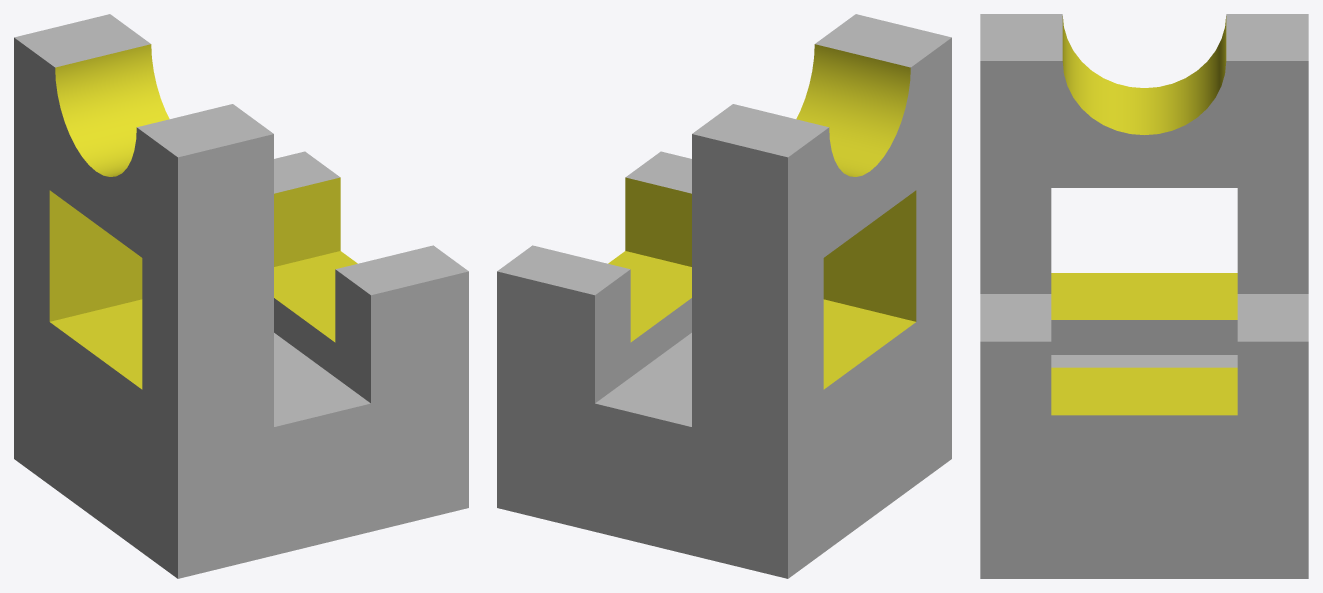
3 views of the same model, side by side, from view 1: azimuth 30°, elevation 25°; view 2: azimuth 150°, elevation 25°; view 3: azimuth 270°, elevation 25° (orthographic).
Visible parts, largest first — view 1: Solid2; view 2: Solid2; view 3: Solid2.
Boxes of the visible parts, x1,y1,x2,y2 form: Solid2: (14, 14, 468, 578); Solid2: (497, 14, 951, 578); Solid2: (980, 14, 1308, 578).
Size of the model in its own units: 0.0625 by 0.0865 by 0.061.
